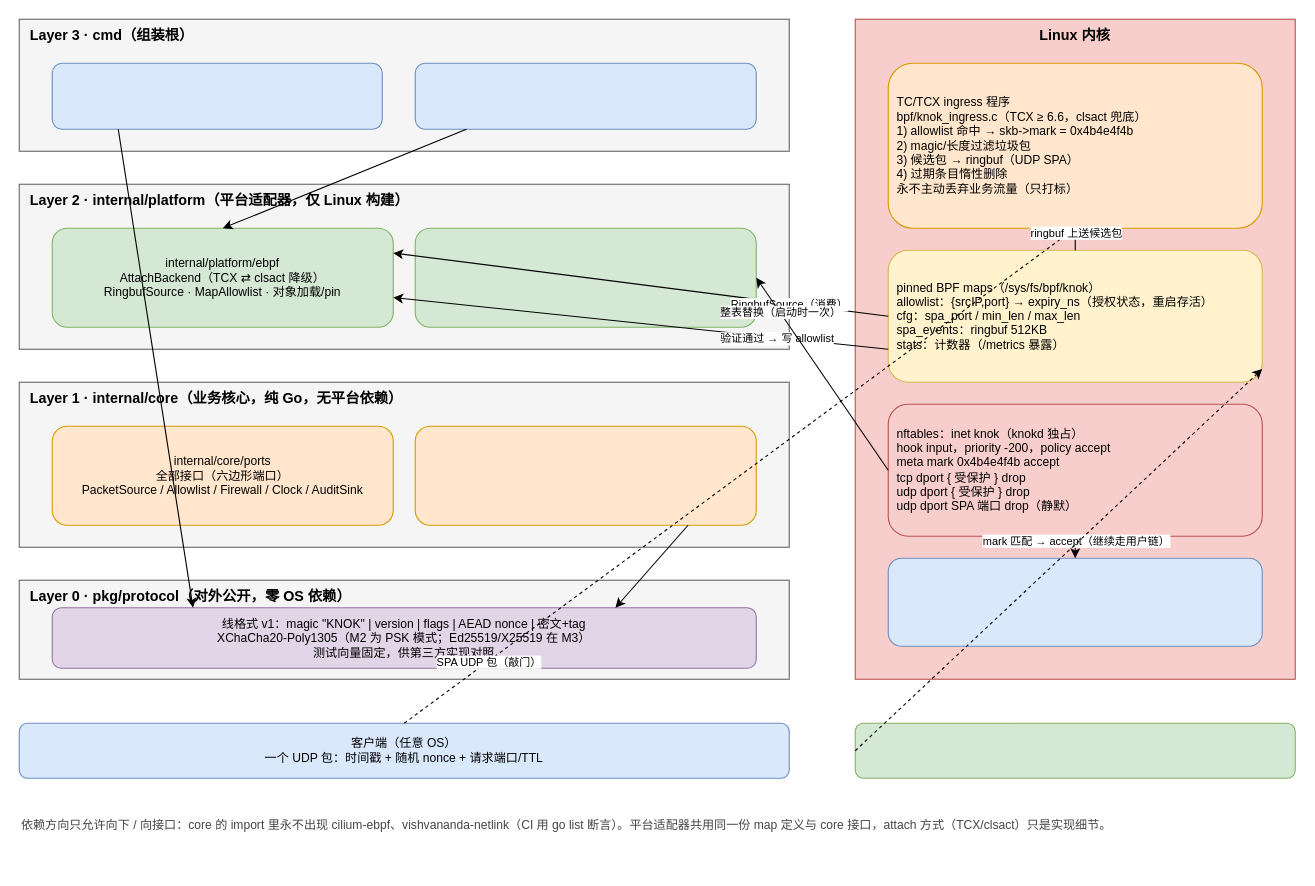
This 1315x886 diagram has some shape labels left out. The shapes that lost their labels are listed below. From the top down, each one's centre as x and y in pixels, then its label:
[216,95]: cmd/knok 客户端 CLI（跨平台，纯 Go） keygen --psk / auth --exec
[585,95]: cmd/knokd 守护进程（Linux） 启动顺序不变量 [1]→[6]：防火墙最后装
[585,277]: internal/platform/nftables inet knok 表（声明式整表替换） 无 mark → drop；mark → accept
[585,475]: internal/core/auth 验证管线：AEAD → 时间窗 → 防重放 → 策略 → TTL 封顶 Authenticator 主循环 + 审计事件
[1074,601]: 受保护服务（如 sshd :22） 敲门前：不可被扫描（静默丢包） 敲门后：仅授权源 IP 可达，TTL 到期自动关闭
[1074,750]: safety.admin_allow 永久放行（逃生通道）：在防火墙之前写入，卸载/调试不会把自己锁在门外
